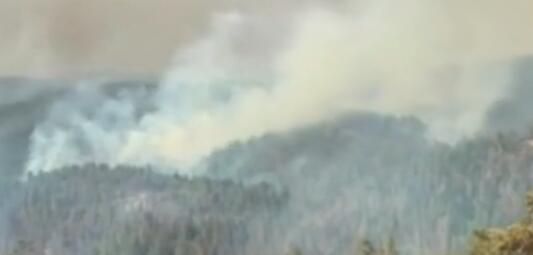smoke: (15, 4, 518, 250)
